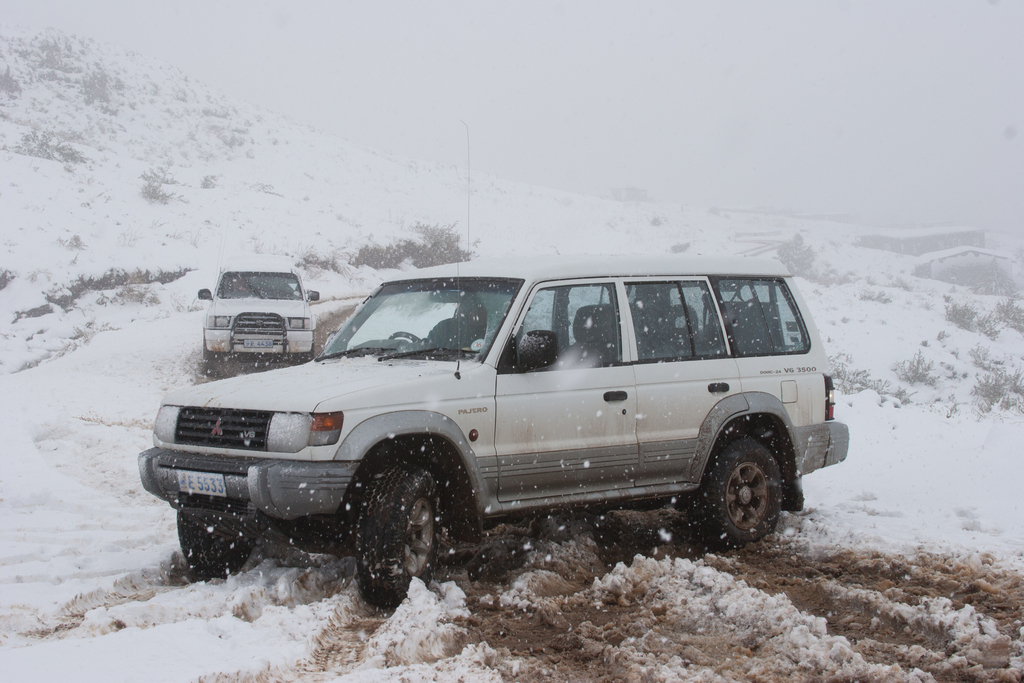Car: (138, 233, 849, 608), (198, 267, 321, 375)
